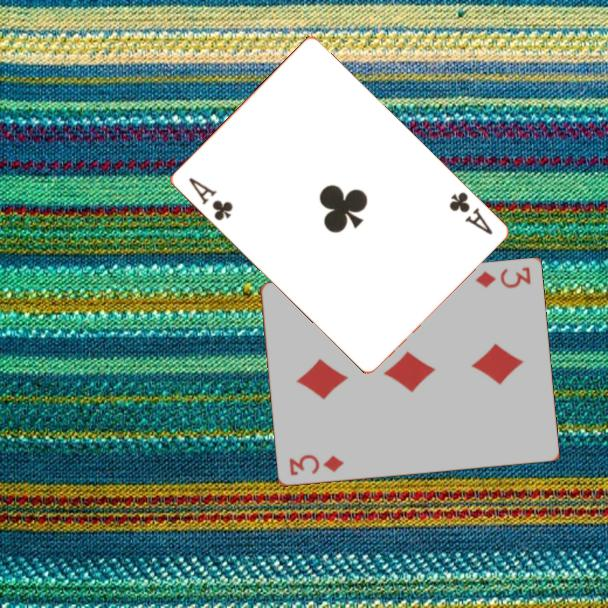c01: (185, 174, 235, 224), (445, 188, 495, 238)
d03: (472, 263, 534, 292), (285, 452, 346, 479)
